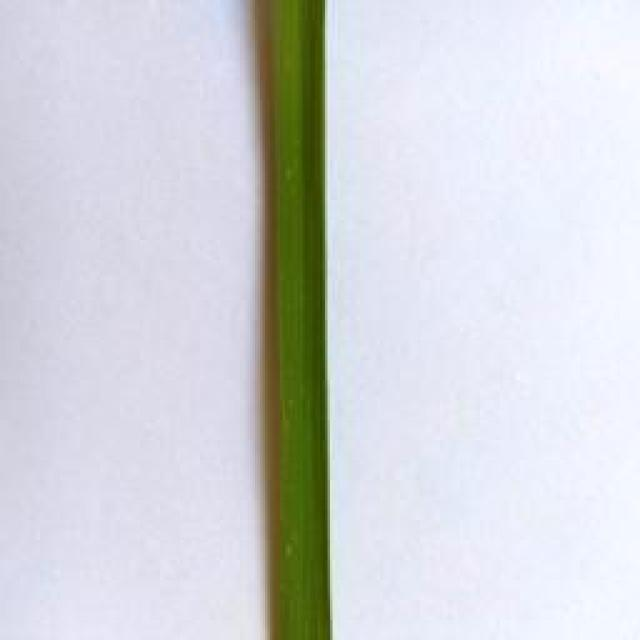Healthy-Plant: (245, 0, 336, 639)
